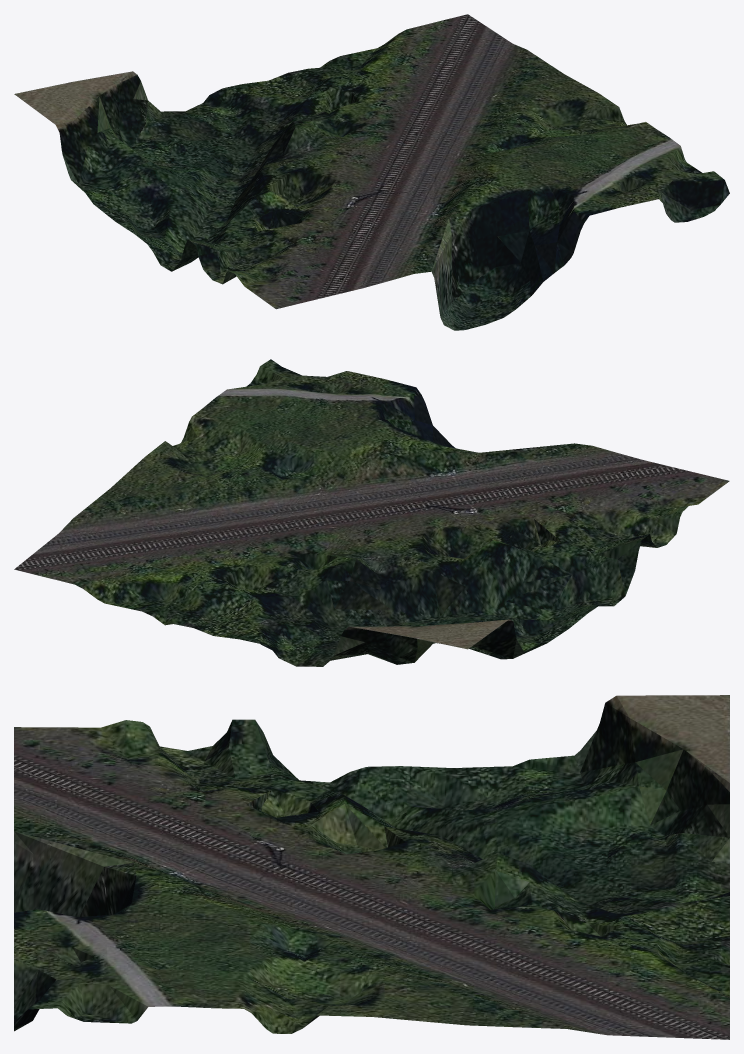
File: map_15_8177_13782.dae
3 views of the same model, one above another, from view 1: azimuth 30°, elevation 25°; view 2: azimuth 150°, elevation 25°; view 3: azimuth 270°, elevation 25° (orthographic). The views are drawn at different scales.
Parts seen in each view (by area): view 1: Ter0; view 2: Ter0; view 3: Ter0.
Part boxes in pixels (x1,y1,x2,y2): Ter0: (14, 14, 729, 330); Ter0: (14, 359, 729, 666); Ter0: (14, 695, 729, 1039).
Size of the model in its own units: 63.87 by 63.88 by 12.15.
Materials: 2 (2 with a texture image).
